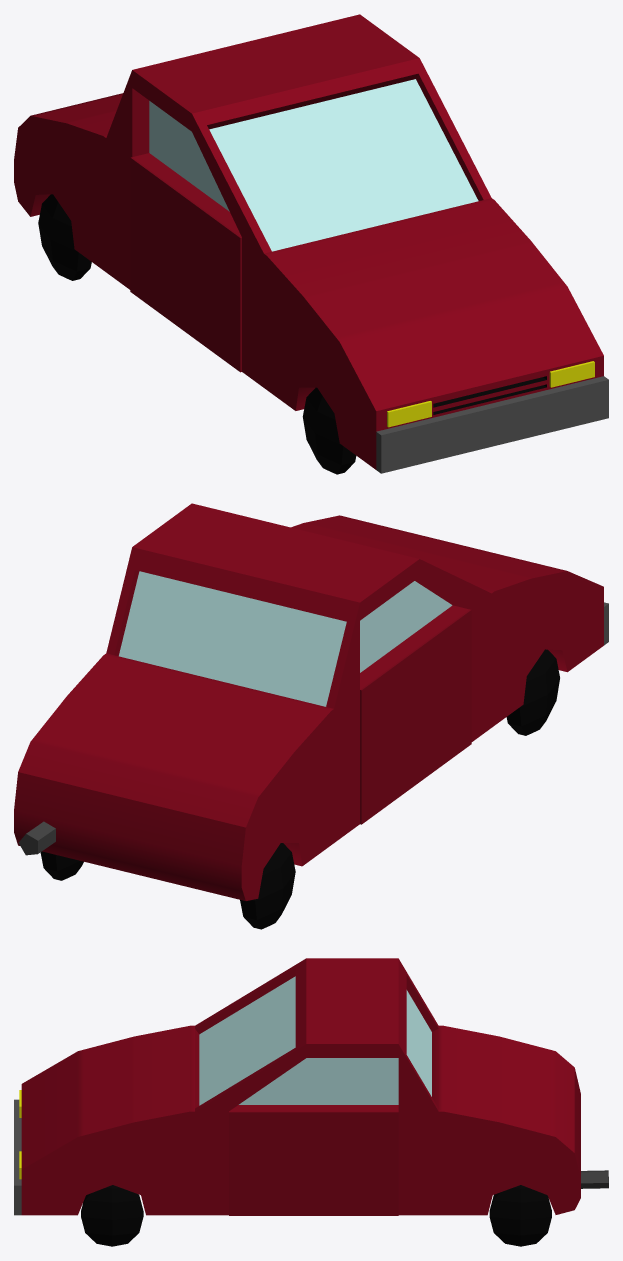
File: Car.fbx
3 renders of one model, top to bottom at view 1: azimuth 30°, elevation 25°; view 2: azimuth 150°, elevation 25°; view 3: azimuth 270°, elevation 25°, orthographic. The views are drawn at different scales.
Visible parts, largest first — view 1: pCube4; view 2: pCube4; view 3: pCube4.
Part boxes in pixels (x1,y1,x2,y2): pCube4: (14,14,608,474); pCube4: (14,503,608,929); pCube4: (14,958,608,1246).
Size of the model in its own units: 2.7 by 3 by 7.78.
